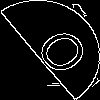O: (25, 25, 92, 84)
